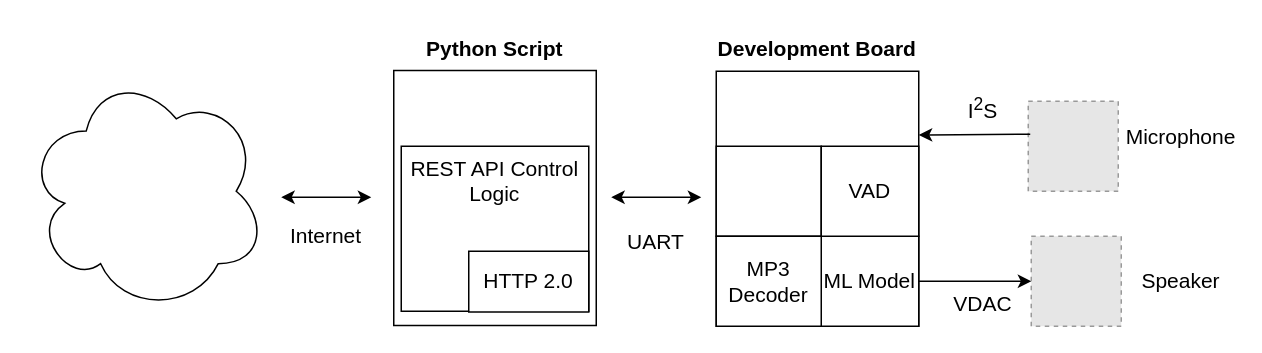
Some shapes in this 1262 by 353 pixel diagram are drawn without their labels. Grey dashed boxes stand in for pictures. Here are the shapes that lost their labels. From the top down, the centre of each, then its label:
At (145,190): "Alexa Voice Services Cloud".
At (768,190): "Opus Encoder".
